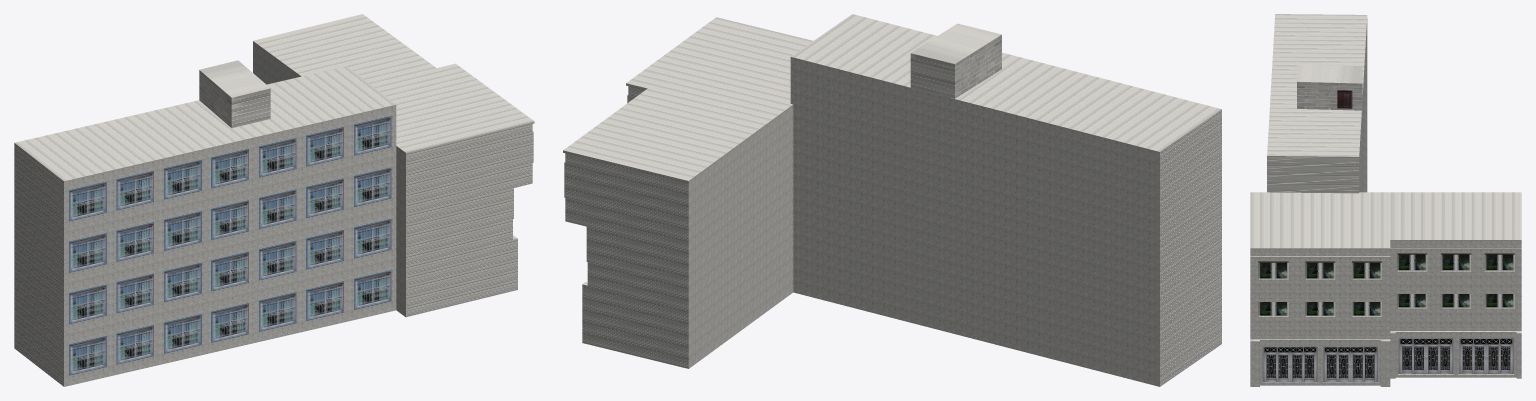
Rendered from wen5_baoweichu.fbx.
3 renders of one model, left to right at view 1: azimuth 30°, elevation 25°; view 2: azimuth 150°, elevation 25°; view 3: azimuth 270°, elevation 25°, orthographic. The views are drawn at different scales.
Visible parts, largest first — view 1: CityEngineShapeMaterial_1_m, CityEngineShapeMaterial_4_m; view 2: CityEngineShapeMaterial_1_m; view 3: CityEngineShapeMaterial_1_m, CityEngineShapeMaterial_3_m, CityEngineShapeMaterial_2_m, CityEngineShapeMaterial_m.
Boxes of the visible parts, x1,y1,x2,y2 form: CityEngineShapeMaterial_1_m: (14, 14, 534, 386); CityEngineShapeMaterial_4_m: (69, 116, 391, 375); CityEngineShapeMaterial_1_m: (563, 14, 1221, 386); CityEngineShapeMaterial_1_m: (1250, 14, 1521, 386); CityEngineShapeMaterial_3_m: (1262, 338, 1513, 382); CityEngineShapeMaterial_2_m: (1258, 253, 1514, 316); CityEngineShapeMaterial_m: (1337, 90, 1352, 108).
Size of the model in its own units: 46.46 by 22.97 by 26.97.
